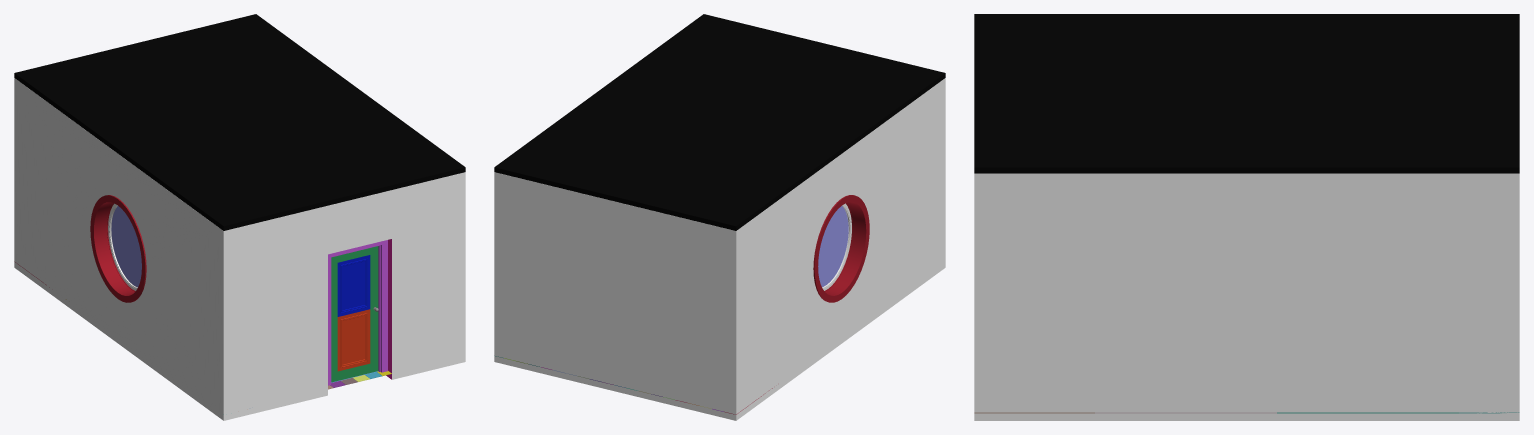
Rendered from SOL_Study_broken.fbx.
The picture shows the model from 3 angles, left to right: view 1: azimuth 30°, elevation 25°; view 2: azimuth 150°, elevation 25°; view 3: azimuth 270°, elevation 25°; orthographic projection. The views are drawn at different scales.
Parts seen in each view (by area): view 1: Ceiling.002, Wall.004, Wall.002, Door Panel, Window.003, Door.001, Window glass; view 2: Ceiling.002, Wall.001, Wall.002, Window.003, Window glass; view 3: Wall.003, Ceiling.002, Floor.002.
Boxes of the visible parts, x1=… form: Ceiling.002: x1=14, y1=14, x2=465, y2=230; Wall.004: x1=223, y1=172, x2=465, y2=420; Wall.002: x1=14, y1=78, x2=223, y2=420; Door Panel: x1=331, y1=246, x2=378, y2=382; Window.003: x1=90, y1=195, x2=146, y2=302; Door.001: x1=328, y1=240, x2=387, y2=385; Window glass: x1=111, y1=206, x2=141, y2=287; Ceiling.002: x1=494, y1=14, x2=945, y2=230; Wall.001: x1=494, y1=172, x2=736, y2=420; Wall.002: x1=736, y1=78, x2=945, y2=420; Window.003: x1=813, y1=195, x2=869, y2=302; Window glass: x1=818, y1=206, x2=848, y2=287; Wall.003: x1=974, y1=173, x2=1519, y2=420; Ceiling.002: x1=974, y1=14, x2=1519, y2=173; Floor.002: x1=974, y1=412, x2=1519, y2=413.
Bounding box in the file's own units: 402 × 308 × 600.
